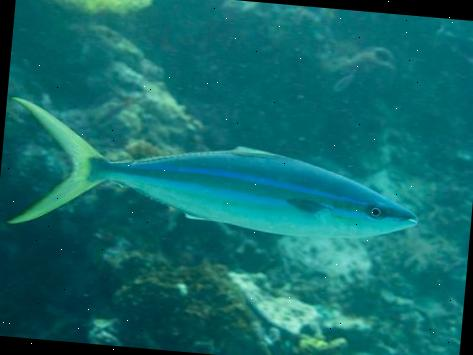fish: (0, 94, 424, 258)
